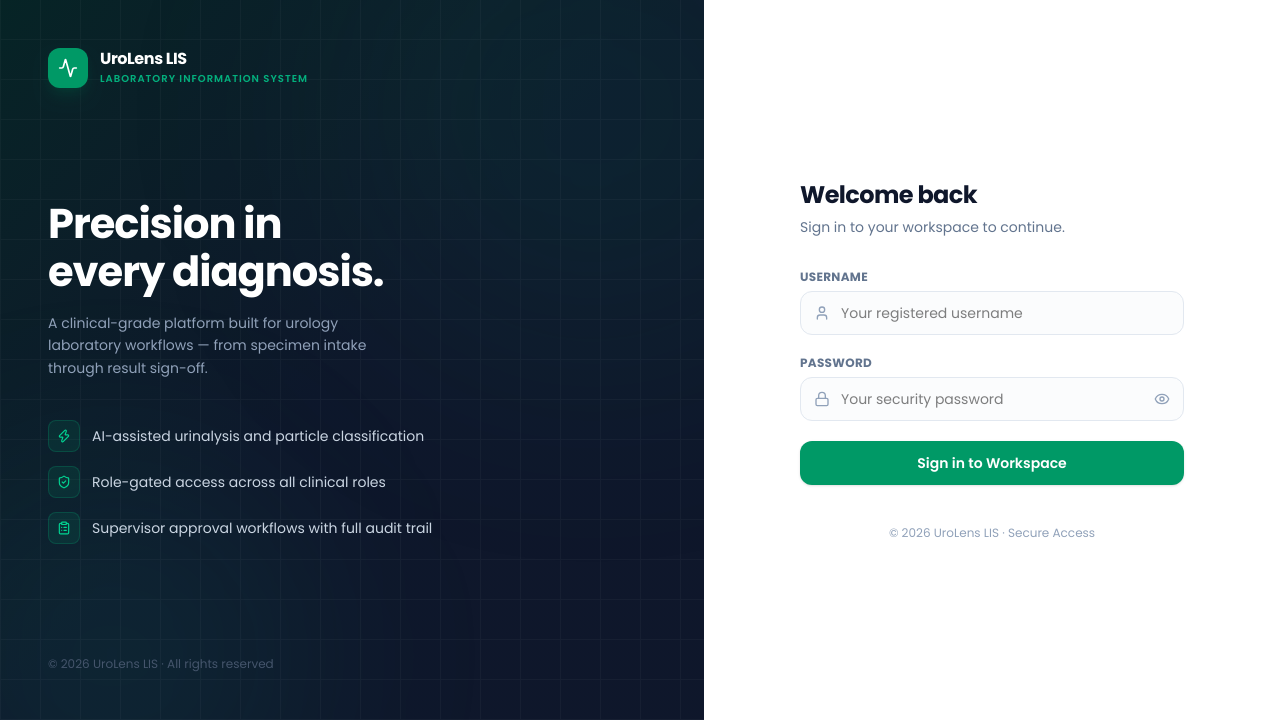
LoginForm › shows field-level validation errors on empty submit
Click the button "Sign in to Workspace": x=992, y=463 [800, 441, 1184, 485]
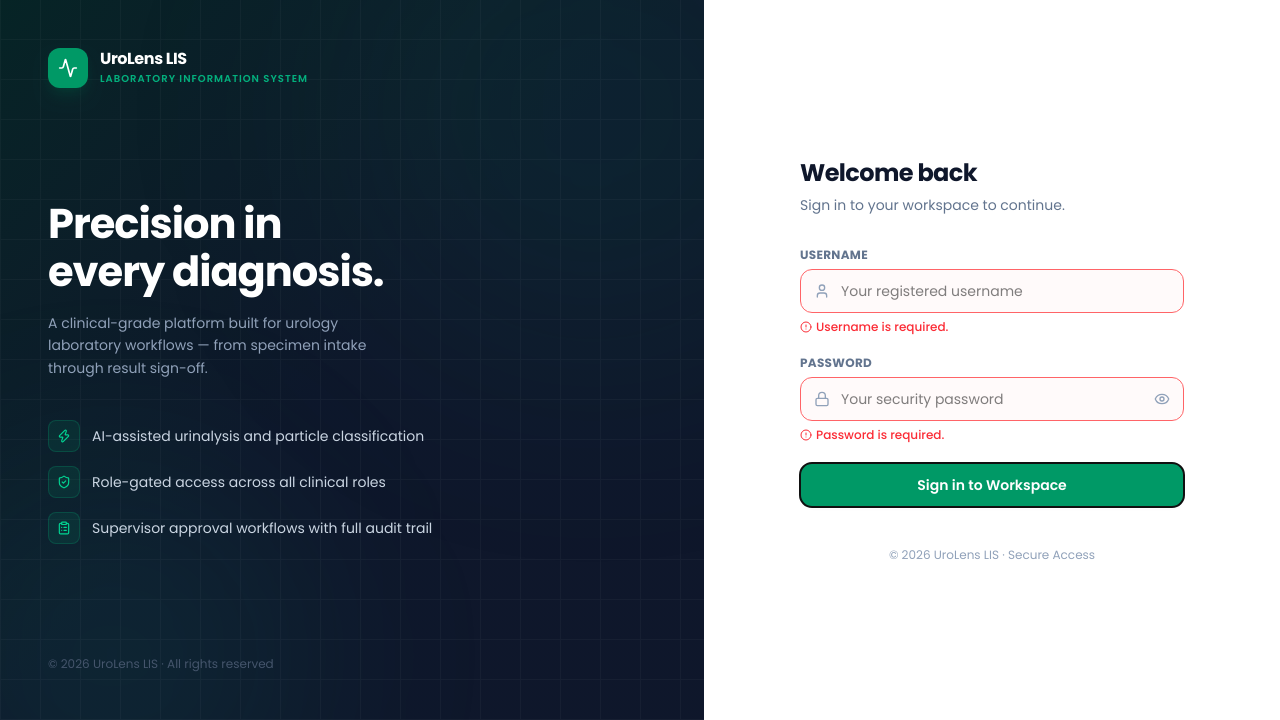
expect the text "Username is required." is shown: met, box [800, 318, 948, 335]
expect the text "Password is required." is shown: met, box [800, 426, 944, 443]
